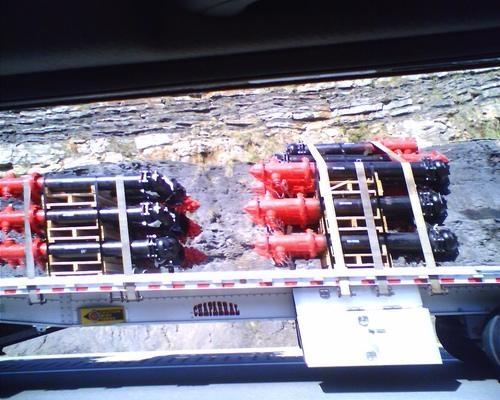truck: (0, 266, 498, 382)
